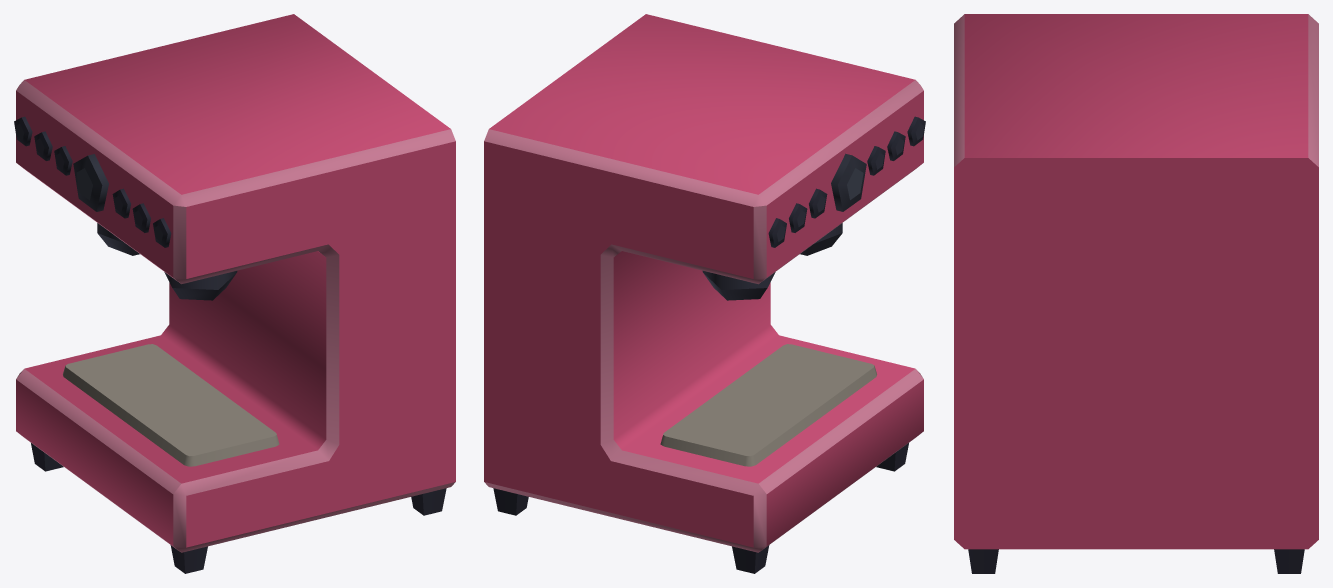
The model's file is CoffeeMachine_1_C.fbx.
3 renders of one model, left to right at view 1: azimuth 30°, elevation 25°; view 2: azimuth 150°, elevation 25°; view 3: azimuth 270°, elevation 25°, orthographic. The views are drawn at different scales.
Parts seen in each view (by area): view 1: CoffeeMachine_1_C; view 2: CoffeeMachine_1_C; view 3: CoffeeMachine_1_C.
Part boxes in pixels (x1=…): CoffeeMachine_1_C: x1=14, y1=14, x2=455, y2=573; CoffeeMachine_1_C: x1=484, y1=14, x2=925, y2=573; CoffeeMachine_1_C: x1=954, y1=14, x2=1318, y2=573.
Size of the model in its own units: 48.51 by 61.74 by 48.68.
